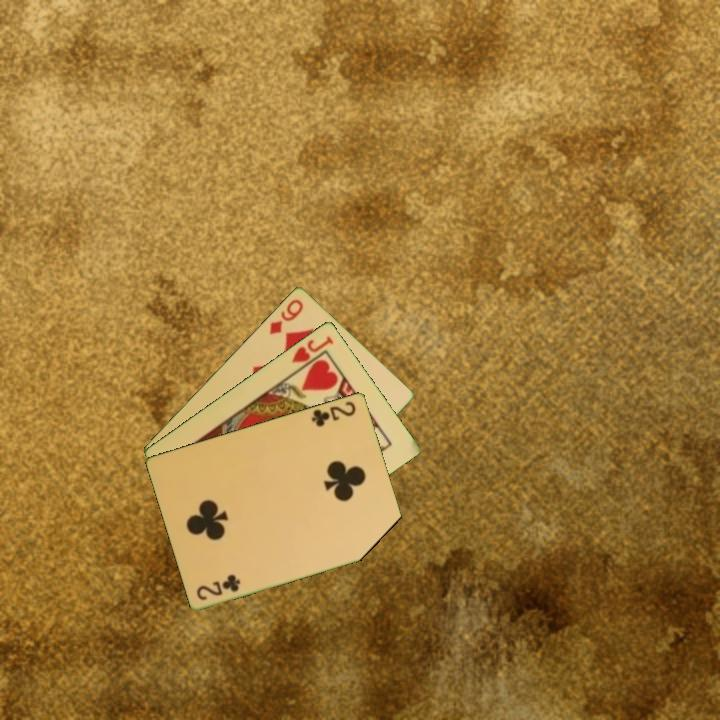2c: (308, 397, 359, 429), (193, 571, 244, 603)
9d: (266, 295, 306, 337)
Jh: (288, 332, 336, 365)
